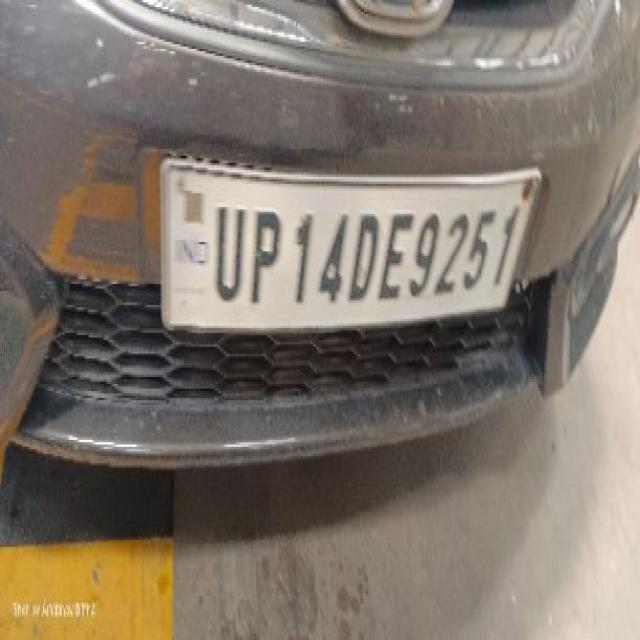license_plate: (158, 151, 543, 335)
